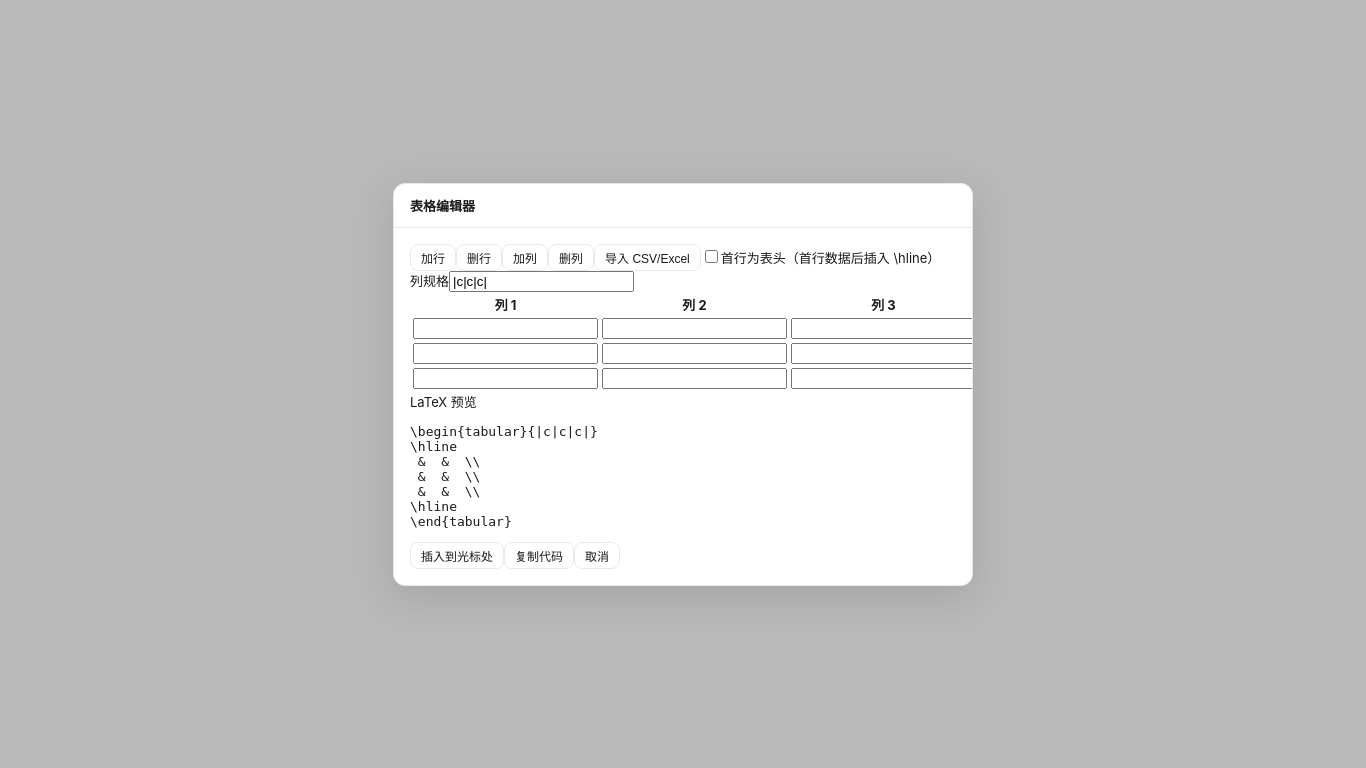
Test: TableEditor › 删行/删列 在最小规模（1×1）下禁用
Click the button with class "sf-btn" showing "删行" at [479, 257], box [456,244,502,270]
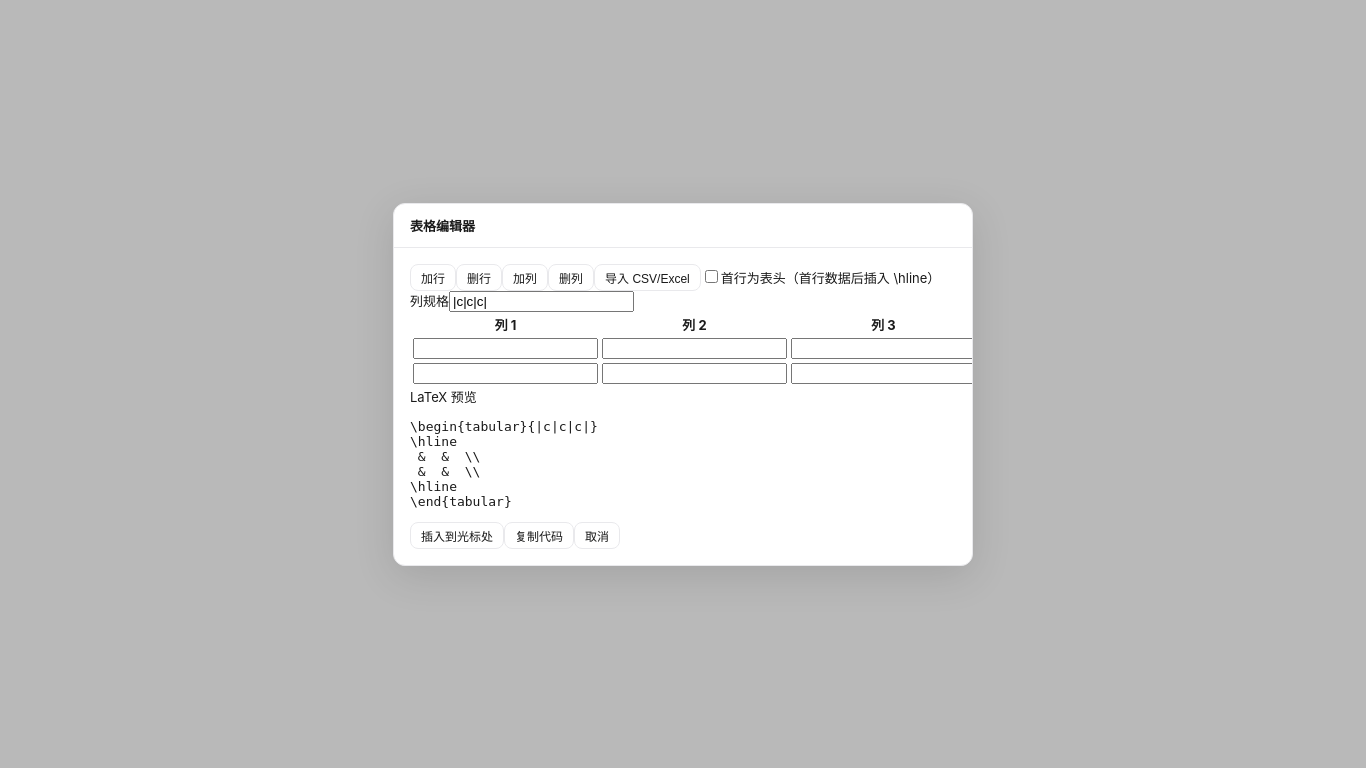
Click the button with class "sf-btn" showing "删列" at [571, 277], box [548,264,594,290]
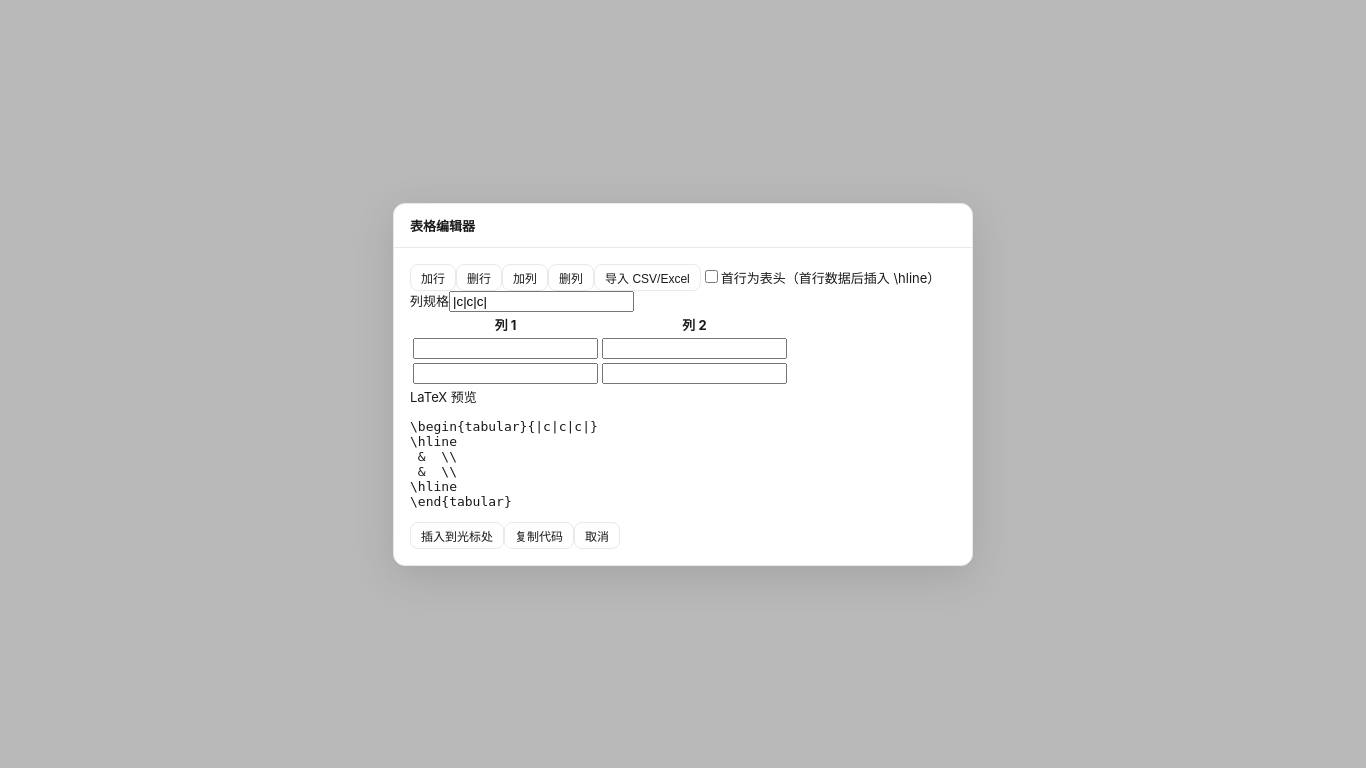
Click the button with class "sf-btn" showing "删行" at [479, 277], box [456,264,502,290]
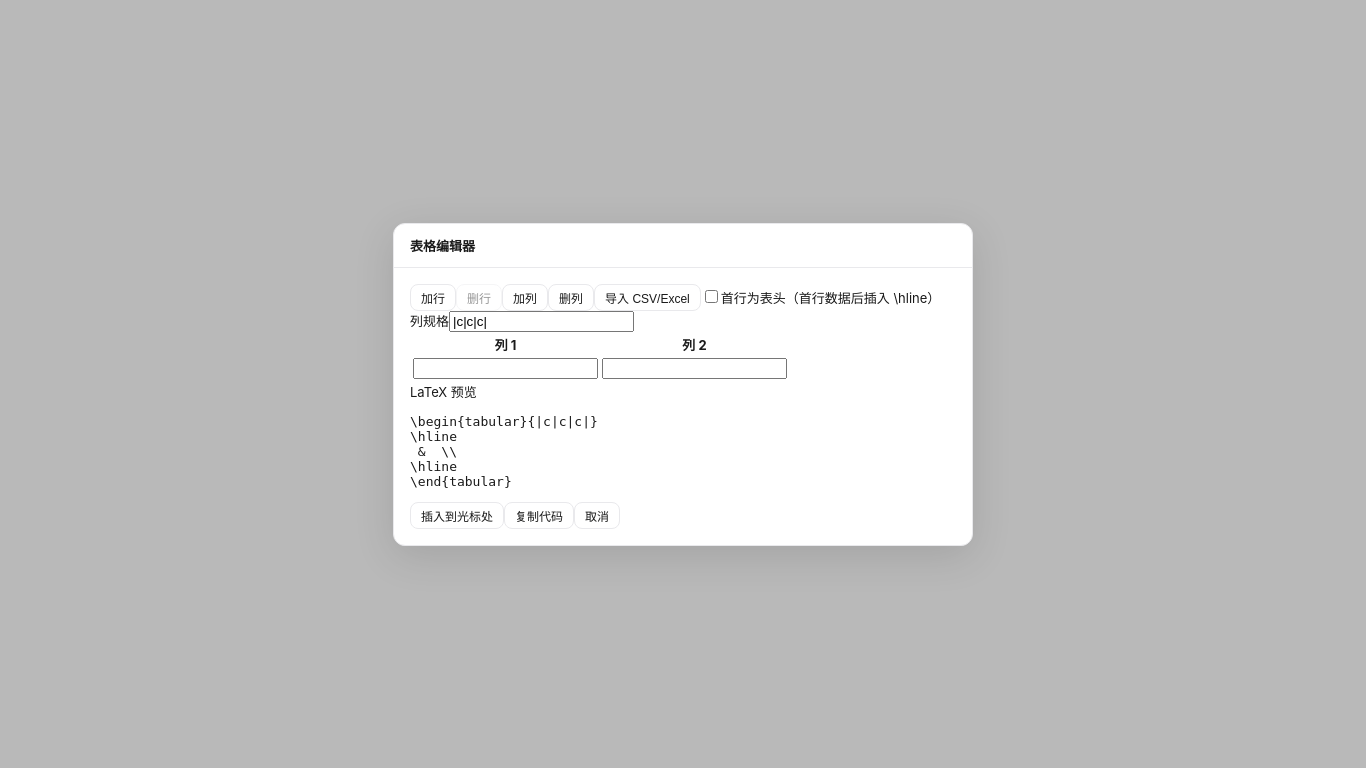
Click the button with class "sf-btn" showing "删列" at [571, 297], box [548,284,594,310]
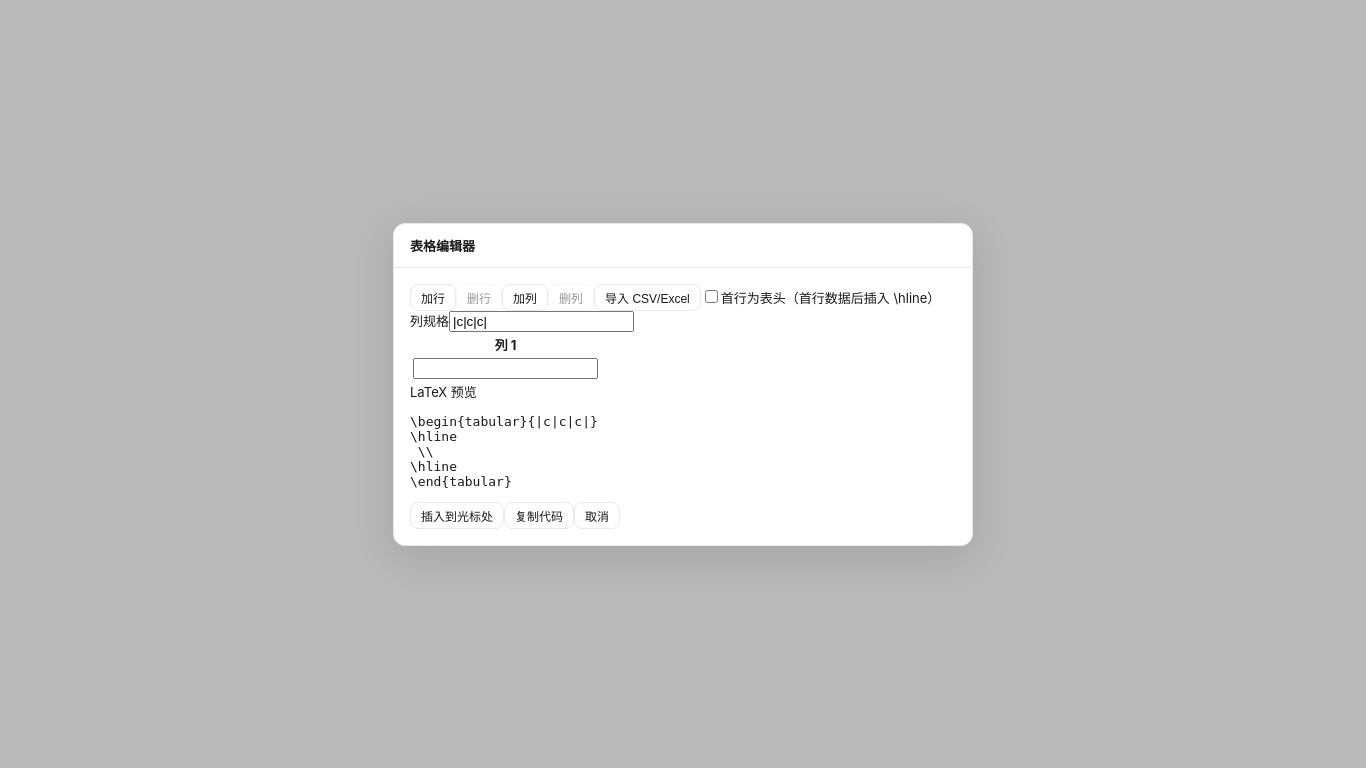
Now the button with class "sf-btn" showing "删行" is disabled, box [456,284,502,310]
Now the button with class "sf-btn" showing "删列" is disabled, box [548,284,594,310]
